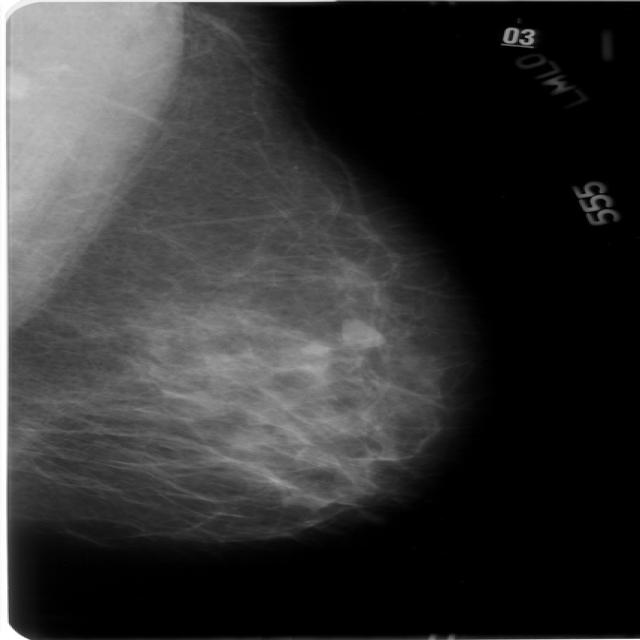tumour: (336, 317, 385, 348)
